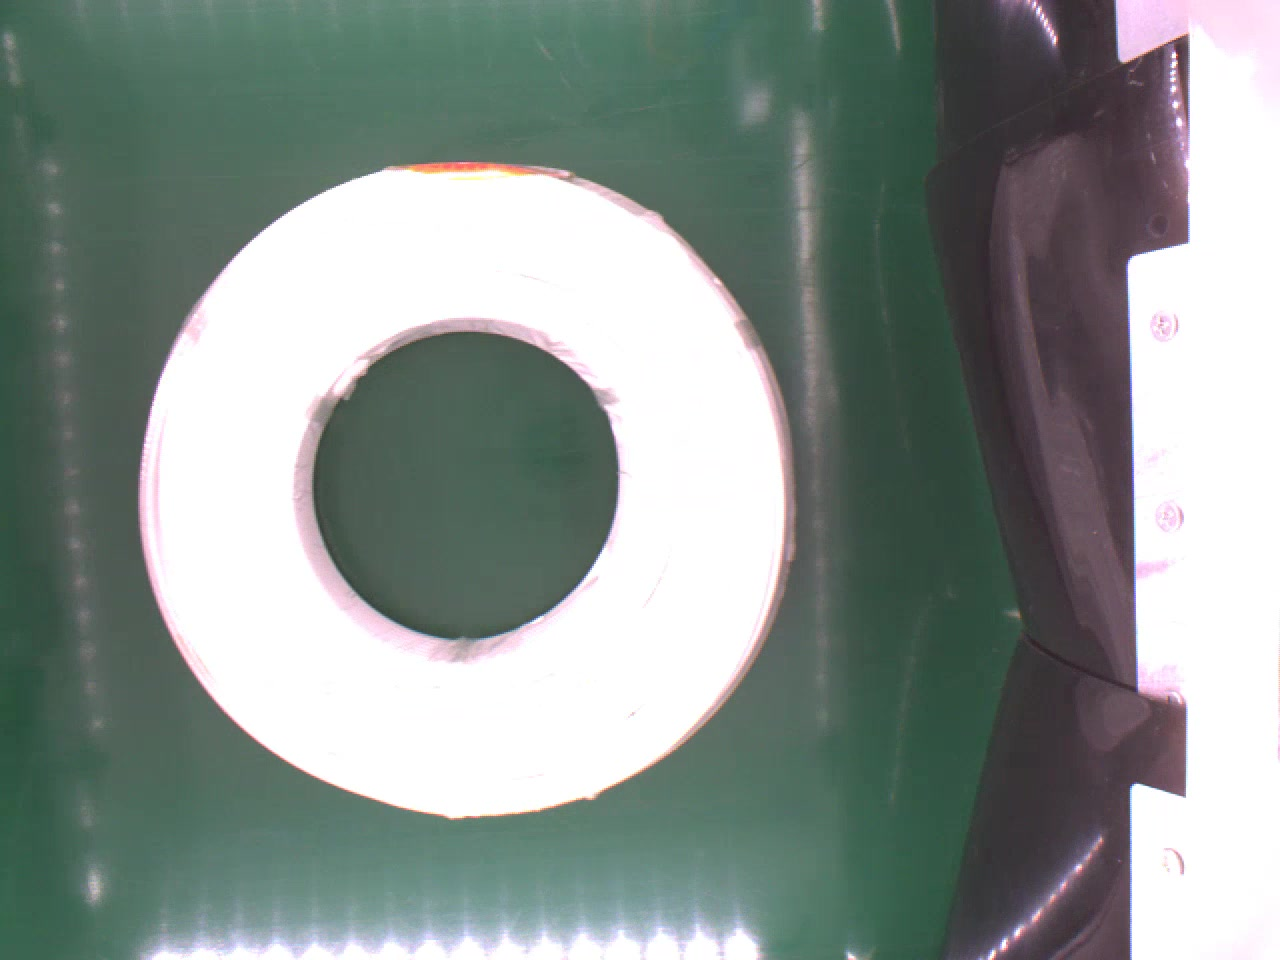white: (136, 154, 812, 823)
